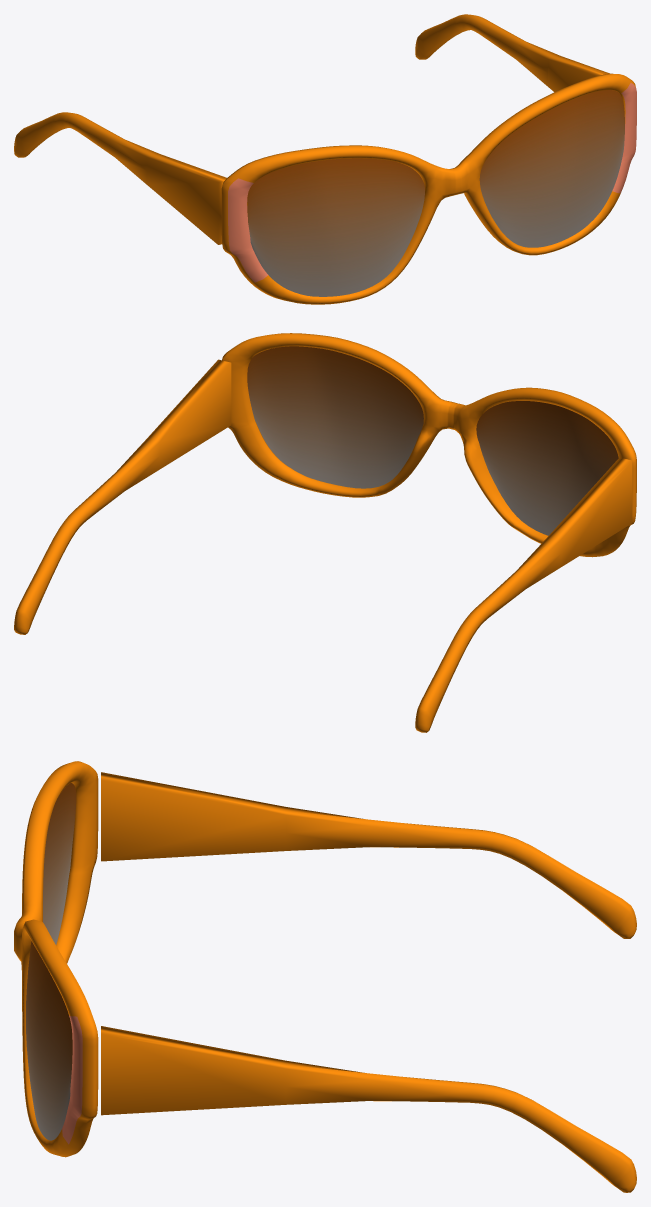
The model's file is orangeglasses.obj.
3 renders of one model, top to bottom at view 1: azimuth 30°, elevation 25°; view 2: azimuth 150°, elevation 25°; view 3: azimuth 270°, elevation 25°, orthographic. The views are drawn at different scales.
Size of the model in its own units: 38.98 by 13.99 by 39.16.
4 materials, 1 textured.
